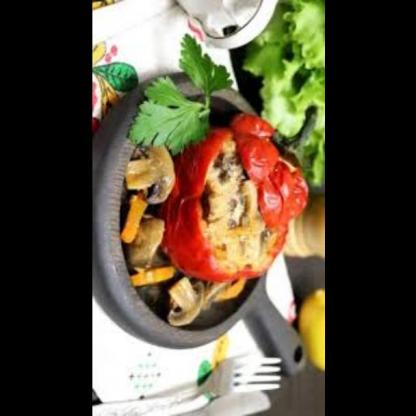bell pepper: (156, 127, 264, 292), (242, 101, 324, 218)
salad: (252, 0, 325, 187)
